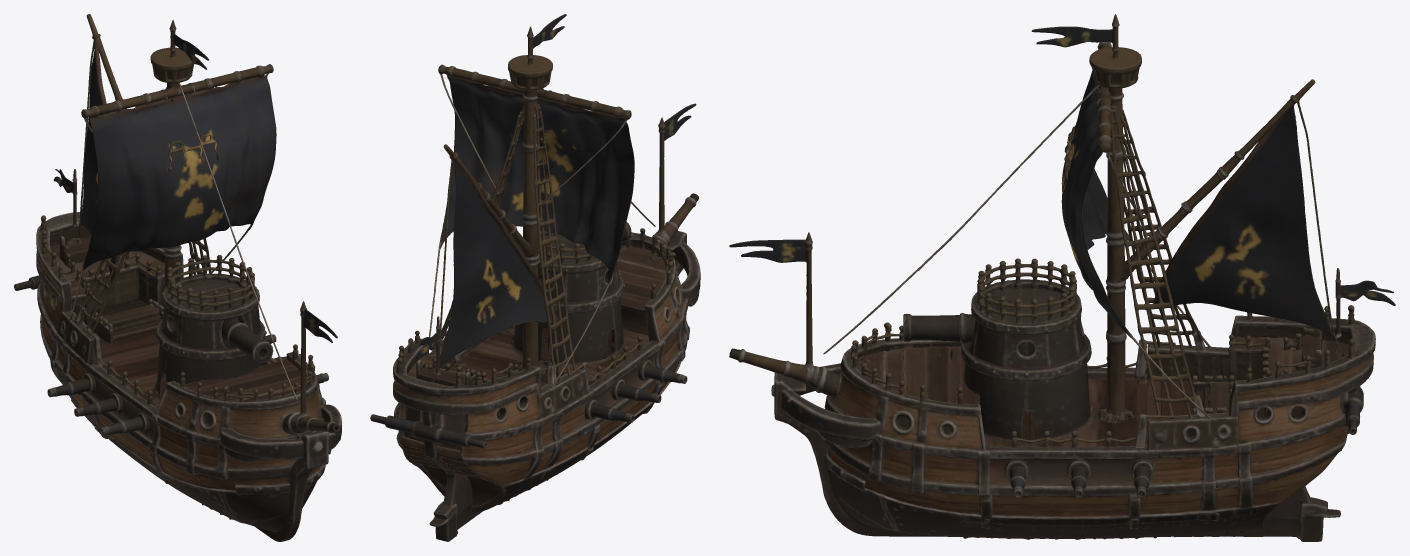
Rendered from ship.glb.
The picture shows the model from 3 angles, left to right: view 1: azimuth 30°, elevation 25°; view 2: azimuth 150°, elevation 25°; view 3: azimuth 270°, elevation 25°; orthographic projection. The views are drawn at different scales.
Parts seen in each view (by area): view 1: world; view 2: world; view 3: world.
Part boxes in pixels (<box>): world: <box>14,14,341,541</box>; world: <box>370,14,700,541</box>; world: <box>729,14,1395,541</box>.
Bounding box in the file's own units: 0.4589 × 0.8685 × 0.9994.
1 material, 1 textured.
